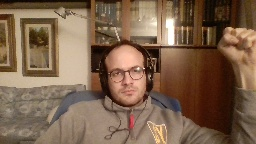Pugno: (214, 22, 256, 68)
